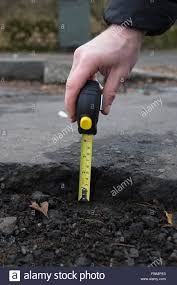pothole: (1, 162, 177, 264)
